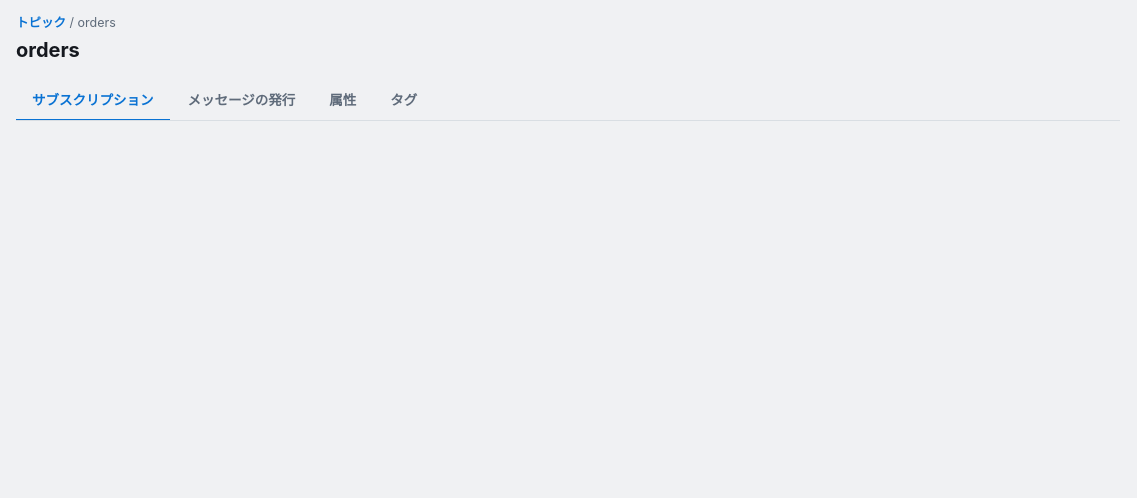
Test: TopicDetailPage › publishes a message and shows the MessageId result
Step 1. Click the button with test id "tab-publish" → (241, 101), box [172,81,311,121]
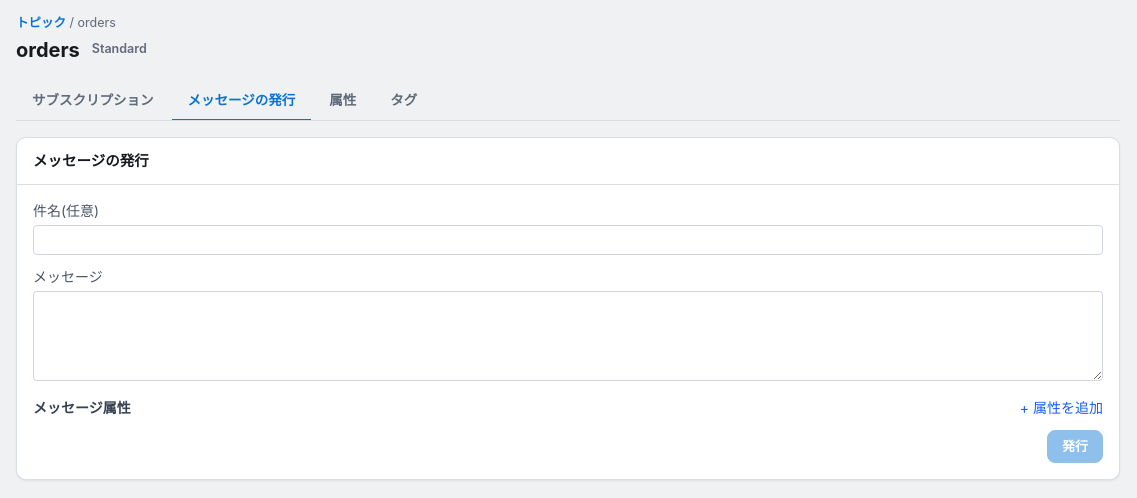
Step 2. Type "hello" into the text box with test id "pub-message" → (568, 336), box [33,291,1103,381]
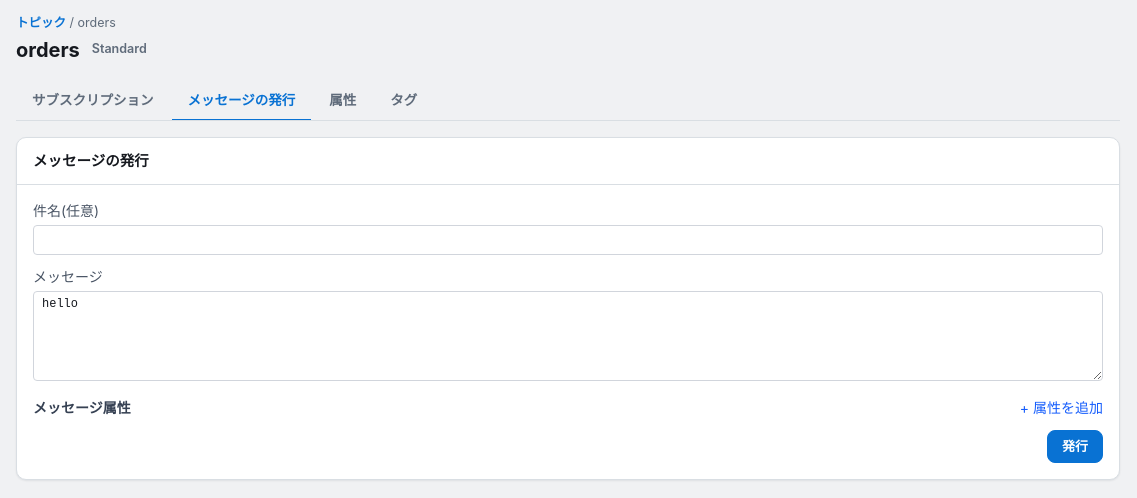
Step 3. Click the button with test id "pub-save" → (1075, 447), box [1047,430,1103,463]
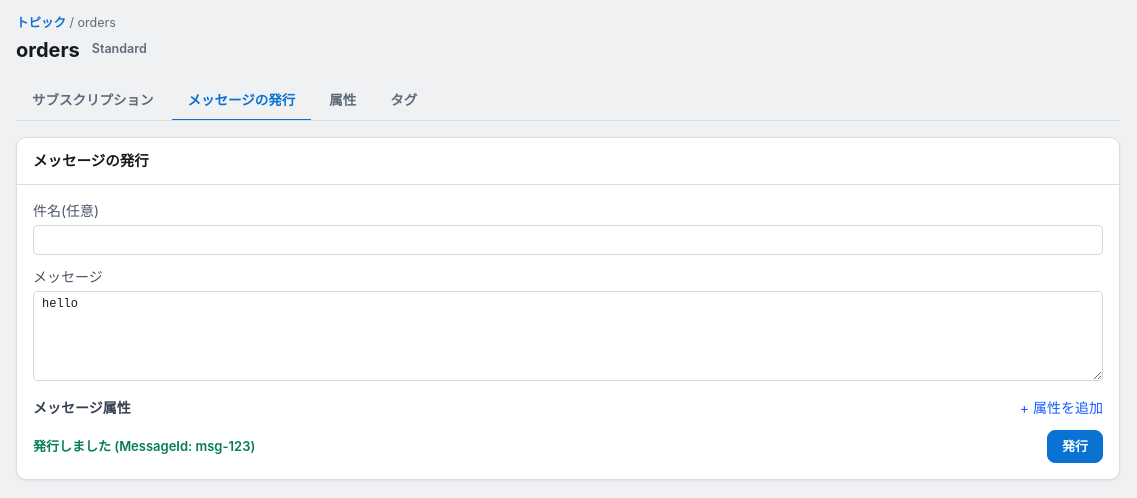
Expected: the text with test id "publish-result" shows "msg-123", [196,438,250,454]
